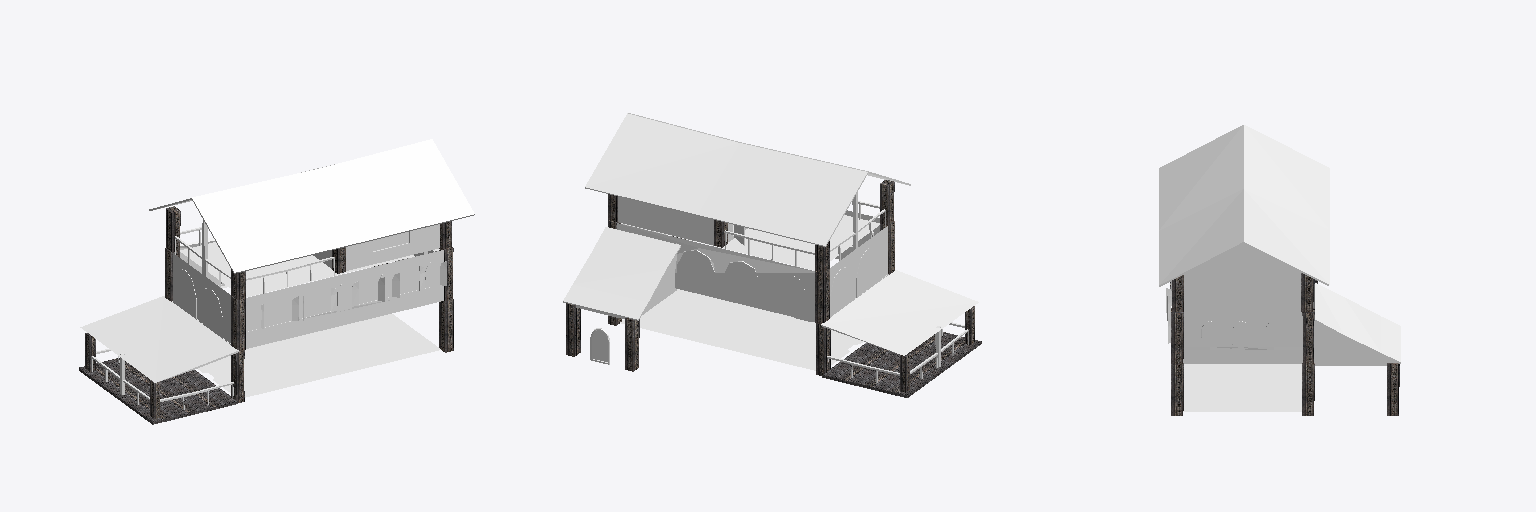
3 views of the same model, side by side, from view 1: azimuth 30°, elevation 25°; view 2: azimuth 150°, elevation 25°; view 3: azimuth 270°, elevation 25° (orthographic).
Parts seen in each view (by area): view 1: Default_Layer; view 2: Default_Layer; view 3: Default_Layer.
Part boxes in pixels (x1,y1,x2,y2): Default_Layer: (79,139,474,424); Default_Layer: (563,113,981,397); Default_Layer: (1159,125,1400,415).
Size of the model in its own units: 33.91 by 18.75 by 22.5.
6 materials, 2 textured.